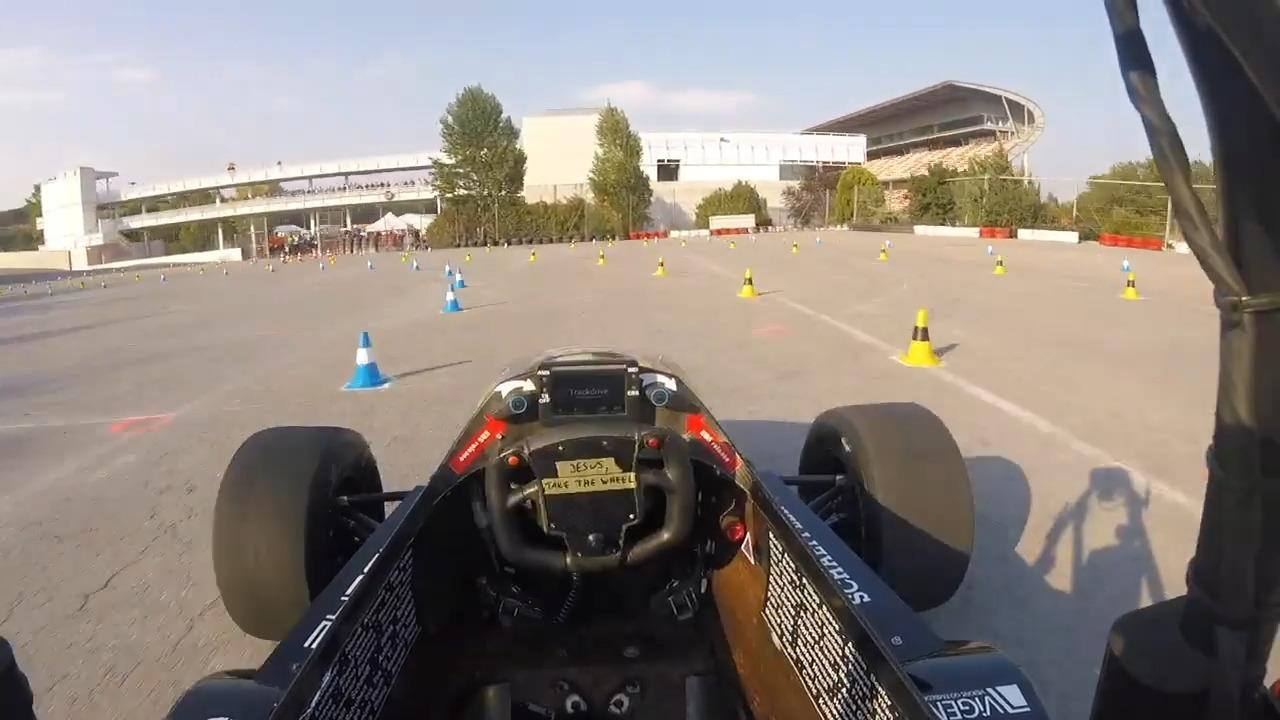blue_cone: (337, 321, 396, 398), (441, 285, 464, 318)
yellow_cone: (892, 297, 951, 372), (729, 263, 766, 303), (592, 247, 614, 276), (653, 257, 678, 276), (526, 246, 545, 264)
